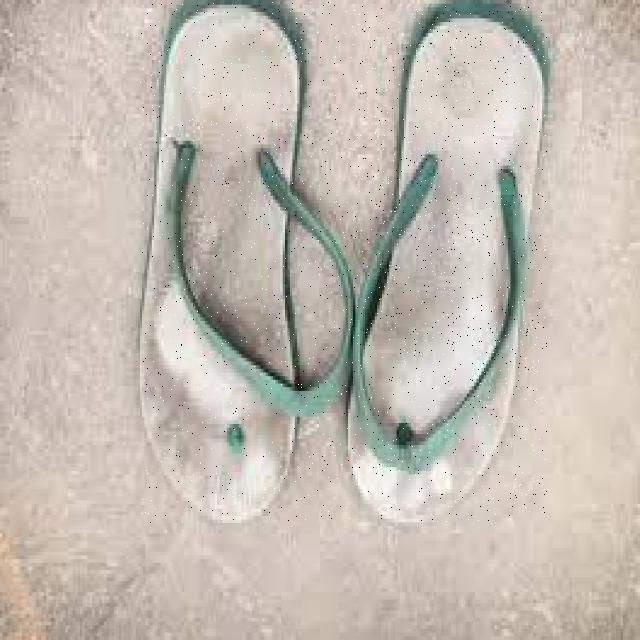other: (141, 1, 355, 522), (351, 6, 547, 522)
